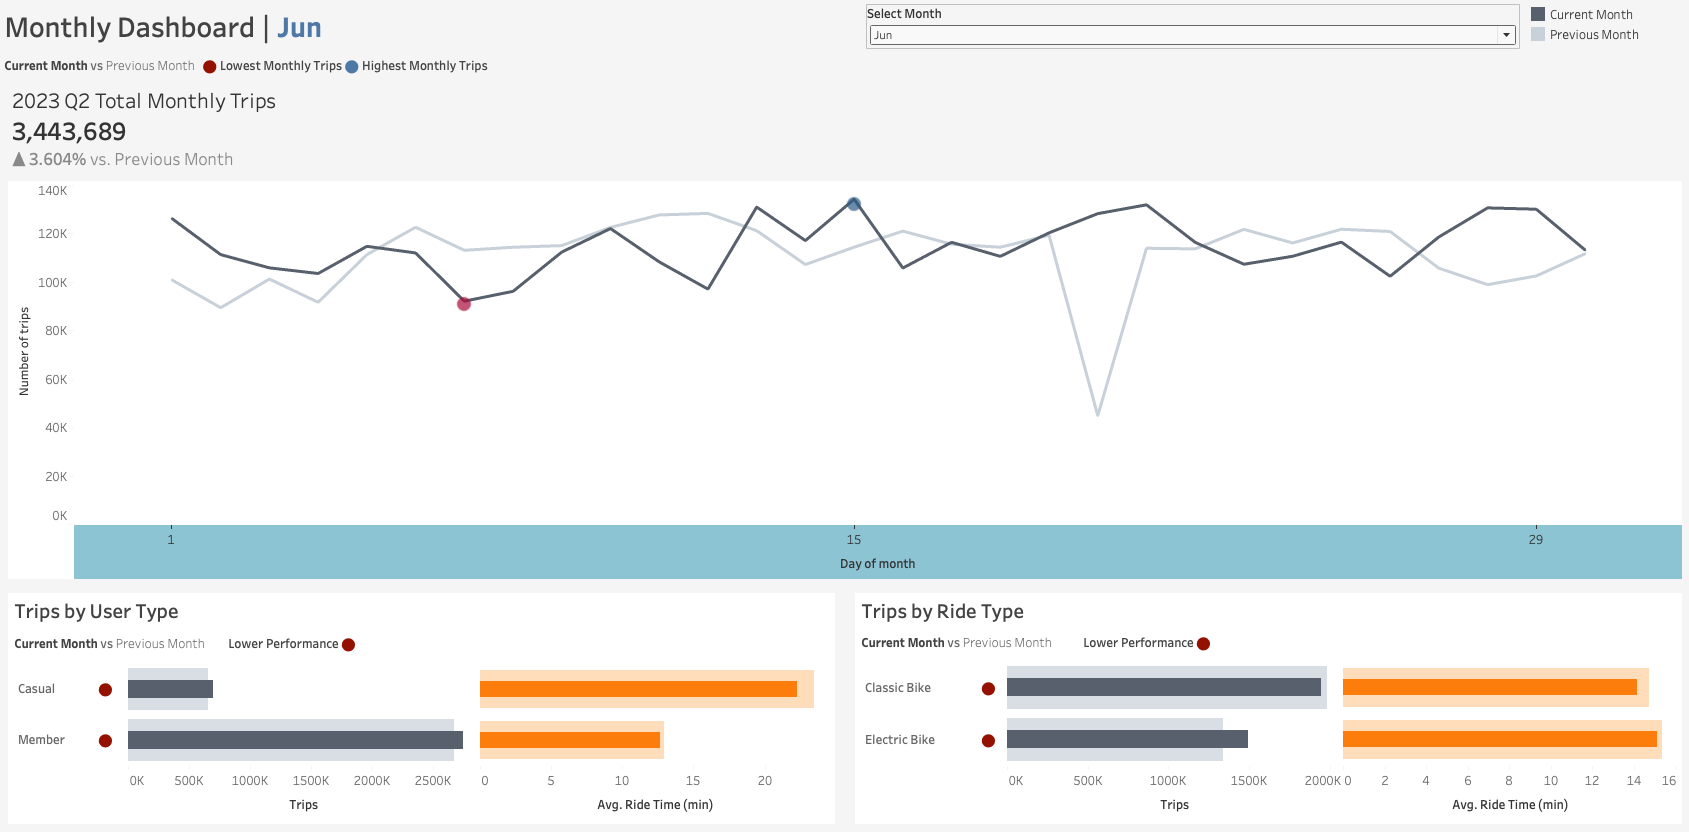

The page's visual inventory and layout, read from the dashboard file:
{"tool":"tableau","page":{"name":"Monthly Trips","canvas":[1000,1000],"units":"permille","ordinal":0},"visuals":[{"type":"text","box":[0,0,593.8,53.6]},{"type":"parameter","param":"[Parameters].[Parameter 1]","box":[593.8,0,290.7,53.6]},{"type":"legend","title":"Trips","param":"[federated.02sm7nr1siw9os1d3kso008bdk6i].[:Measure Names]","box":[884.5,0,115.5,53.6]},{"type":"text","box":[0,53.6,1000,25.3]},{"type":"worksheet","title":"Trips","mark":"Line","rows":["Calculation_2813975771045302283"],"cols":["ended_at"],"box":[0,79,1000,635.6]},{"type":"text","box":[6.9,724.7,486.6,34.4]},{"type":"text","box":[507.2,724.7,485.9,34.4]},{"type":"text","box":[6.9,759.1,147.1,32.4]},{"type":"text","box":[154,759.1,339.5,32.4]},{"type":"text","box":[507.2,759.1,152.6,30.4]},{"type":"text","box":[659.8,759.1,333.3,30.4]},{"type":"worksheet","title":"Bikes","mark":"Bar","rows":["rideable_type","Calculation_2377900663737311233"],"cols":["CM Trips (copy)_2813975771367456798","Calculation_2813975771363704857","Current Month Ride Duration (copy)_2813975771250921492","Current Month Trips (copy)_2813975771250335763"],"box":[507.2,789.5,485.9,169]},{"type":"worksheet","title":"Users","mark":"Bar","rows":["member_casual","Calculation_2377900663737311233"],"cols":["CM Trips (copy)_2813975771367456798","Calculation_2813975771363704857","Current Month Ride Duration (copy)_2813975771250921492","Current Month Trips (copy)_2813975771250335763"],"box":[6.9,791.5,486.6,167]}]}

Visuals, with their boxes on the dashboard's canvas, which has no fixed pixel size, in thousandths of its width and height (x1, y1, x2, y2). These are canvas units, not pixel positions in the 1689x832 screenshot, which may show the page scaled, cropped or inside an application window:
text: 0,0,594,54
parameter: 594,0,884,54
"Trips" legend: 884,0,1000,54
text: 0,54,1000,79
"Trips" worksheet (Line marks): 0,79,1000,715
text: 7,725,494,759
text: 507,725,993,759
text: 7,759,154,792
text: 154,759,494,792
text: 507,759,660,790
text: 660,759,993,790
"Bikes" worksheet (Bar marks): 507,790,993,958
"Users" worksheet (Bar marks): 7,792,494,958
